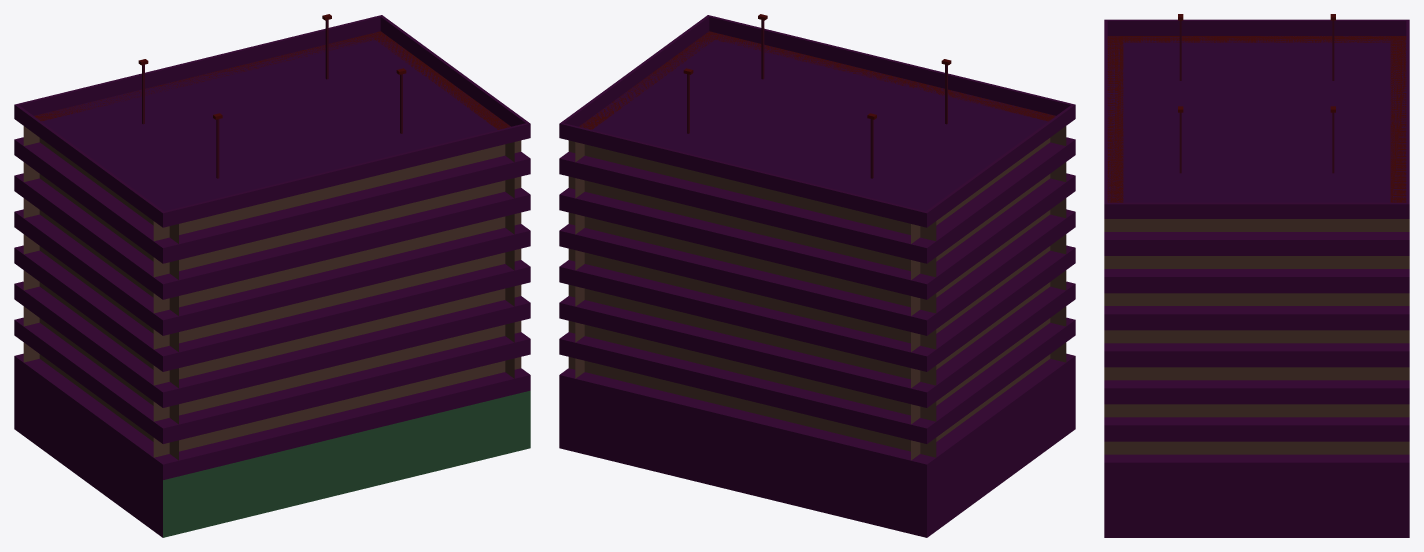
Rendered from carpark_b.glb.
3 renders of one model, left to right at view 1: azimuth 30°, elevation 25°; view 2: azimuth 150°, elevation 25°; view 3: azimuth 270°, elevation 25°, orthographic. The views are drawn at different scales.
Parts seen in each view (by area): view 1: carpark_b; view 2: carpark_b; view 3: carpark_b.
Part boxes in pixels (x1,y1,x2,y2): carpark_b: [14, 14, 530, 537]; carpark_b: [559, 14, 1075, 537]; carpark_b: [1104, 14, 1409, 537].
Size of the model in its own units: 32 by 31.05 by 22.4.
